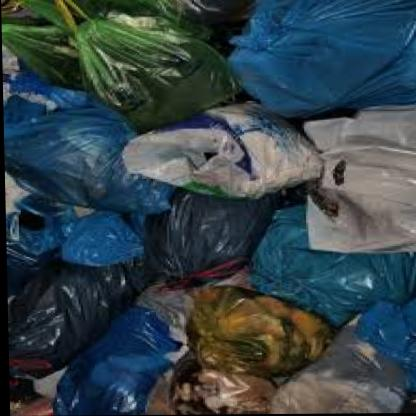Plastic: (3, 68, 178, 225), (206, 0, 416, 127), (11, 256, 121, 416), (140, 292, 275, 416), (142, 183, 264, 290), (246, 228, 393, 312)
